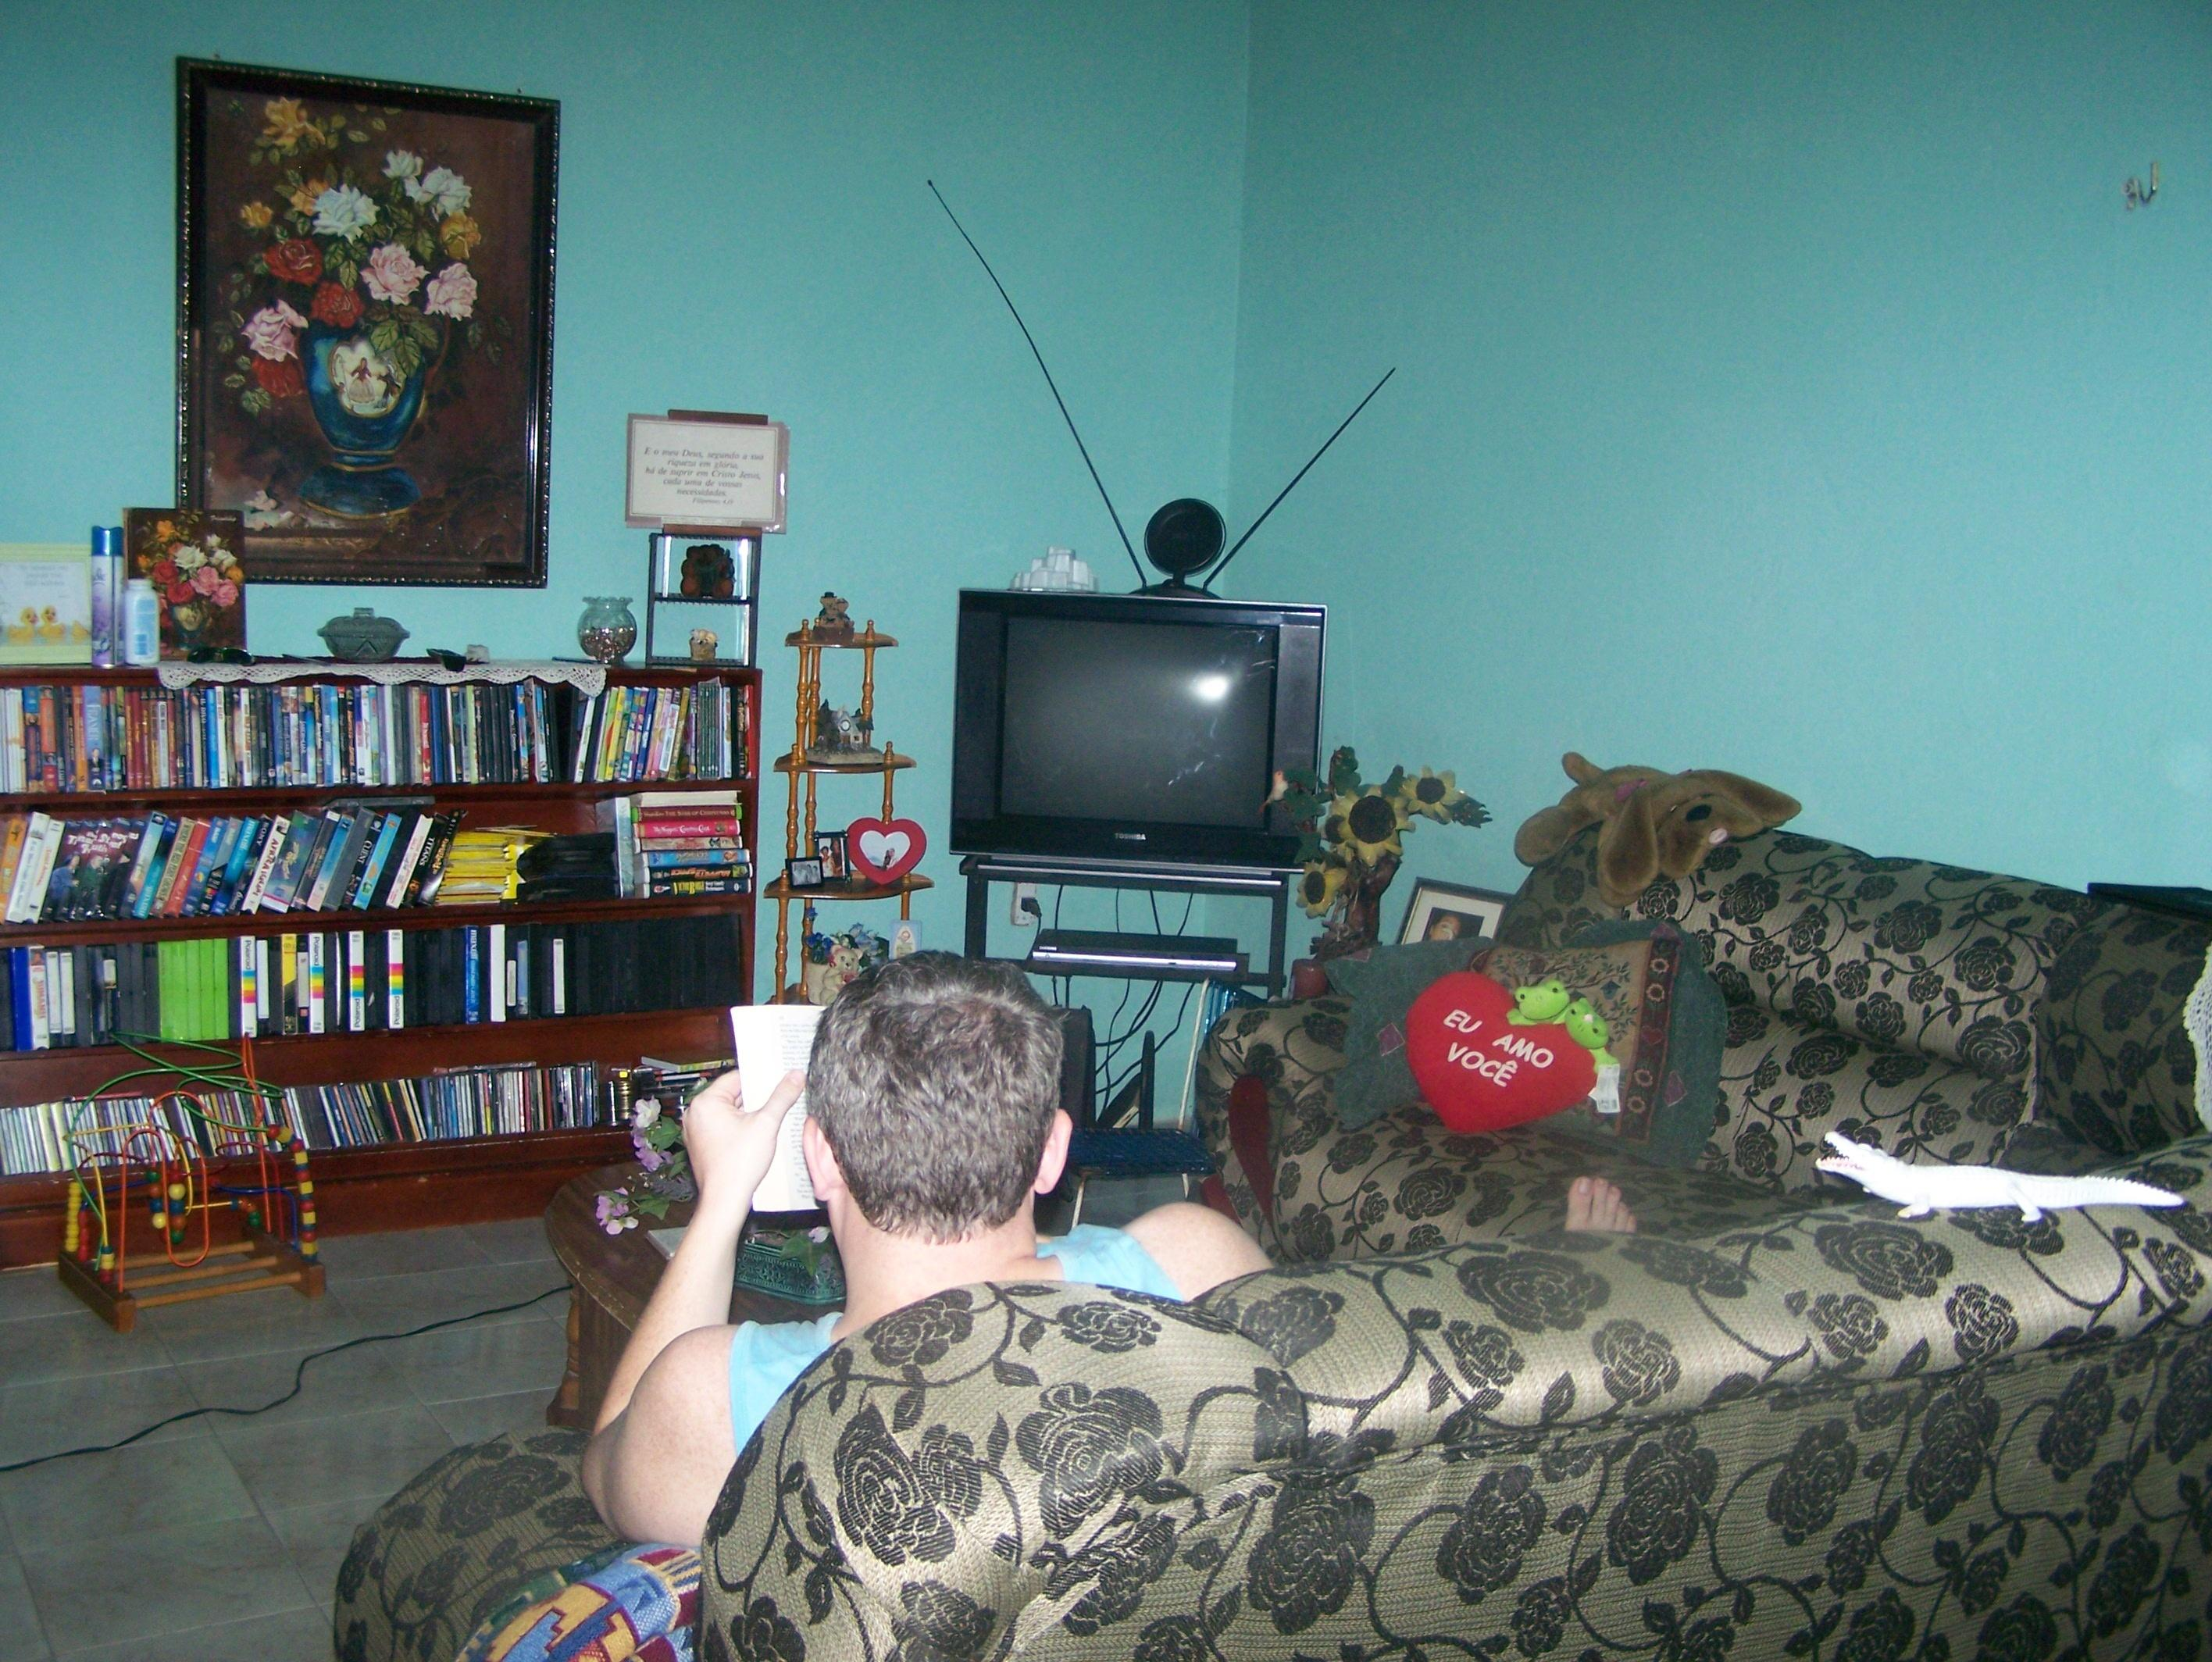AIO PC-Monitor-TV: (948, 588, 1327, 873)
Rak: (0, 669, 761, 1208)
